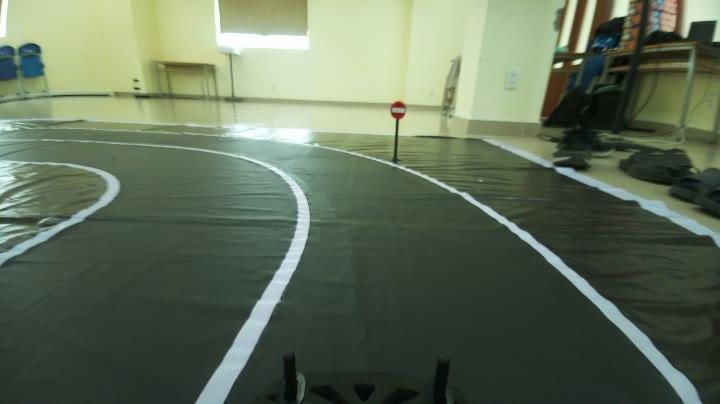no_entry: (384, 98, 408, 121)
